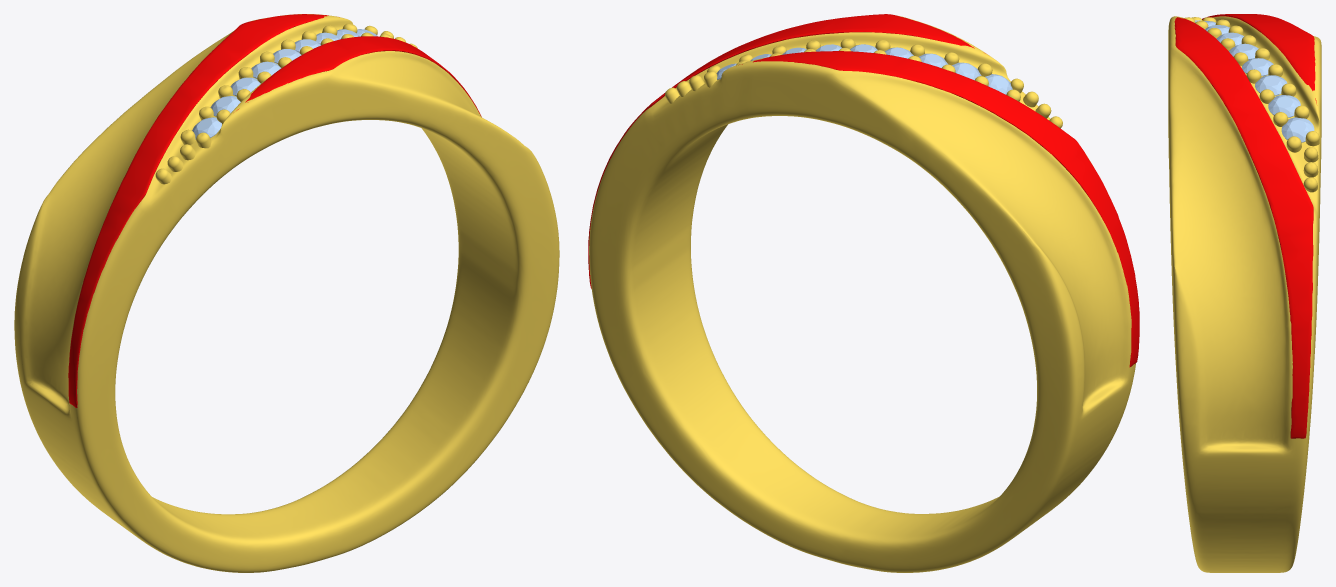
3 views of the same model, side by side, from view 1: azimuth 30°, elevation 25°; view 2: azimuth 150°, elevation 25°; view 3: azimuth 270°, elevation 25° (orthographic).
Visible parts, largest first — view 1: ;SOLID (×3); view 2: ;SOLID (×3); view 3: ;SOLID (×3), GemOnCrv (×5), Prong.
Boxes of the visible parts, left/top/right/bottom form: ;SOLID (×3): left=14, top=14, right=559, bottom=572; ;SOLID (×3): left=588, top=14, right=1139, bottom=572; ;SOLID (×3): left=1168, top=14, right=1321, bottom=572; GemOnCrv (×5): left=1229, top=43, right=1314, bottom=142; Prong: left=1286, top=136, right=1301, bottom=152.
Size of the model in its own units: 2.78 by 2.78 by 0.7624.
